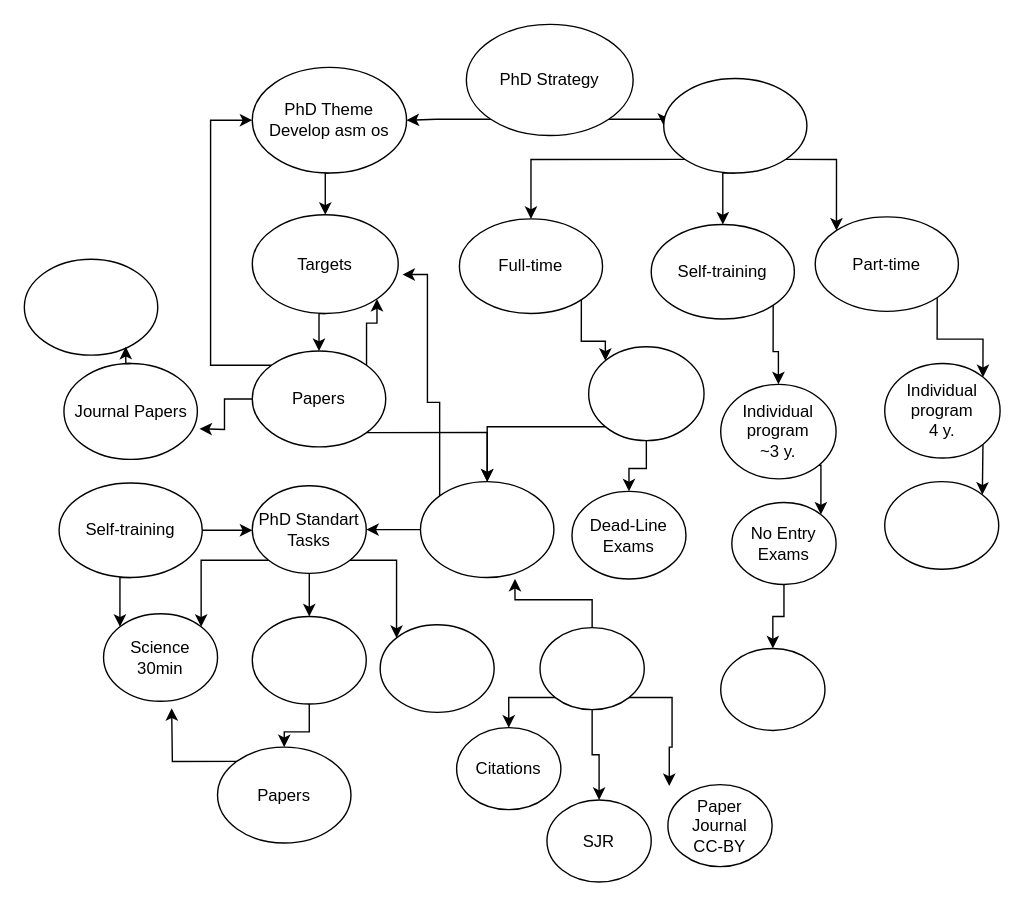
The diagram is 1024 pixels wide and 906 high, and some of its shapes have lost their labels. The shapes that lost their labels are listed below. From the top down, each one's centre as x and y in pixels, then its label:
[734,125]: PhD Types
[90,306]: Conference Papers
[645,393]: Individual program 3 y.
[486,529]: PhD Thesis
[941,524]: Exams
[308,659]: PhD Lecturer 20 min
[436,667]: PhD Thesis Work
[591,668]: Opinions
[772,688]: Phd Theme
